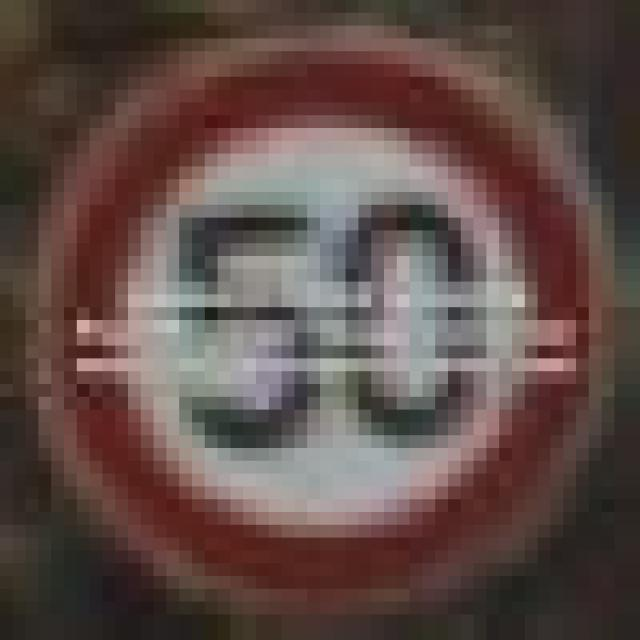speed_limit_30: (26, 39, 576, 564)
